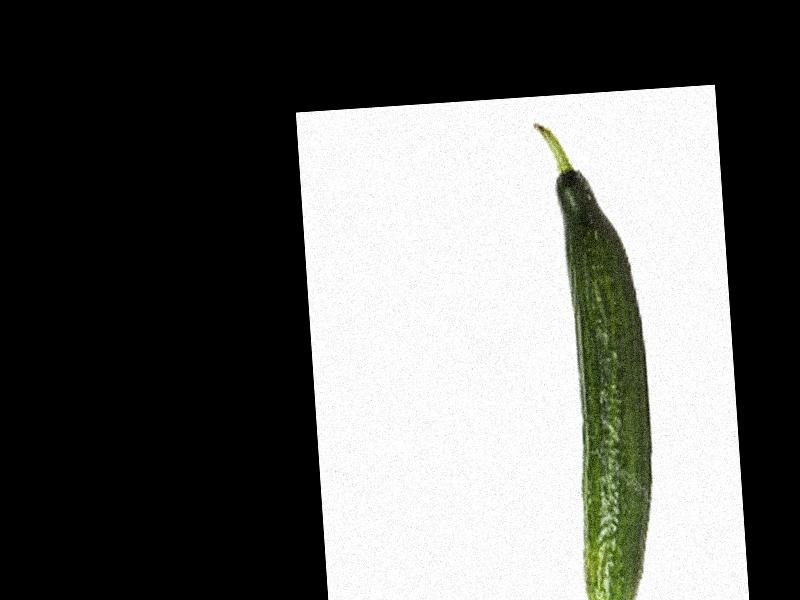Cucumber: (534, 114, 661, 600)
